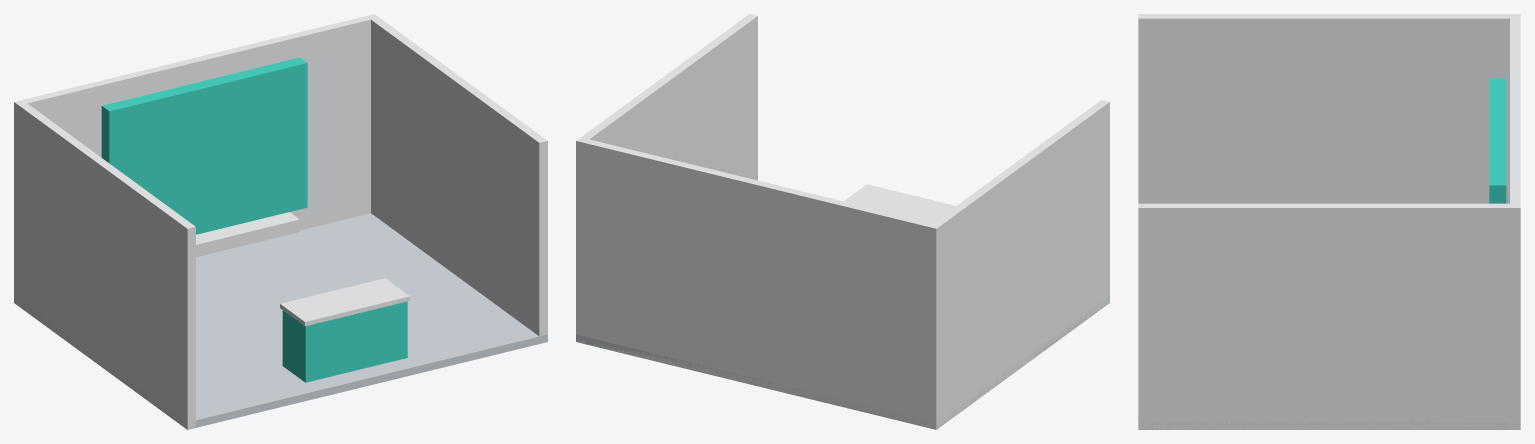
The picture shows the model from 3 angles, left to right: view 1: azimuth 30°, elevation 25°; view 2: azimuth 150°, elevation 25°; view 3: azimuth 270°, elevation 25°; orthographic projection. The views are drawn at different scales.
Parts seen in each view (by area): view 1: Exhibition Booth Concept; view 2: Exhibition Booth Concept; view 3: Exhibition Booth Concept.
Boxes of the visible parts, bbox=[...] form: Exhibition Booth Concept: bbox=[14, 14, 547, 429]; Exhibition Booth Concept: bbox=[576, 14, 1109, 429]; Exhibition Booth Concept: bbox=[1138, 14, 1520, 429].
Size of the model in its own units: 6 by 3.2 by 5.
